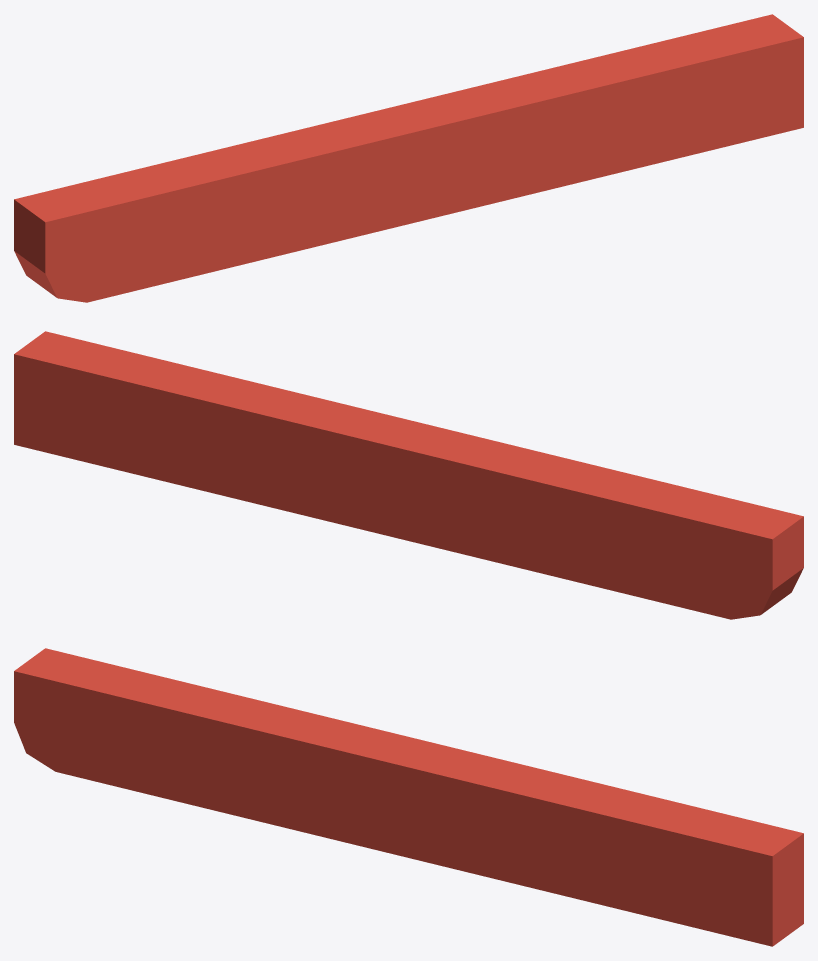
The model's file is SM_Production_Slate_Black_Slate.fbx.
3 views of the same model, one above another, from view 1: azimuth 30°, elevation 25°; view 2: azimuth 150°, elevation 25°; view 3: azimuth 330°, elevation 25° (orthographic).
Parts seen in each view (by area): view 1: SM_Production_Slate_Black_Slate; view 2: SM_Production_Slate_Black_Slate; view 3: SM_Production_Slate_Black_Slate.
Boxes of the visible parts, box(x1,y1,x2,y2) form: SM_Production_Slate_Black_Slate: box(14, 14, 803, 302); SM_Production_Slate_Black_Slate: box(14, 331, 803, 619); SM_Production_Slate_Black_Slate: box(14, 648, 803, 946).
Bounding box in the file's own units: 2.15 × 30 × 3.42.
